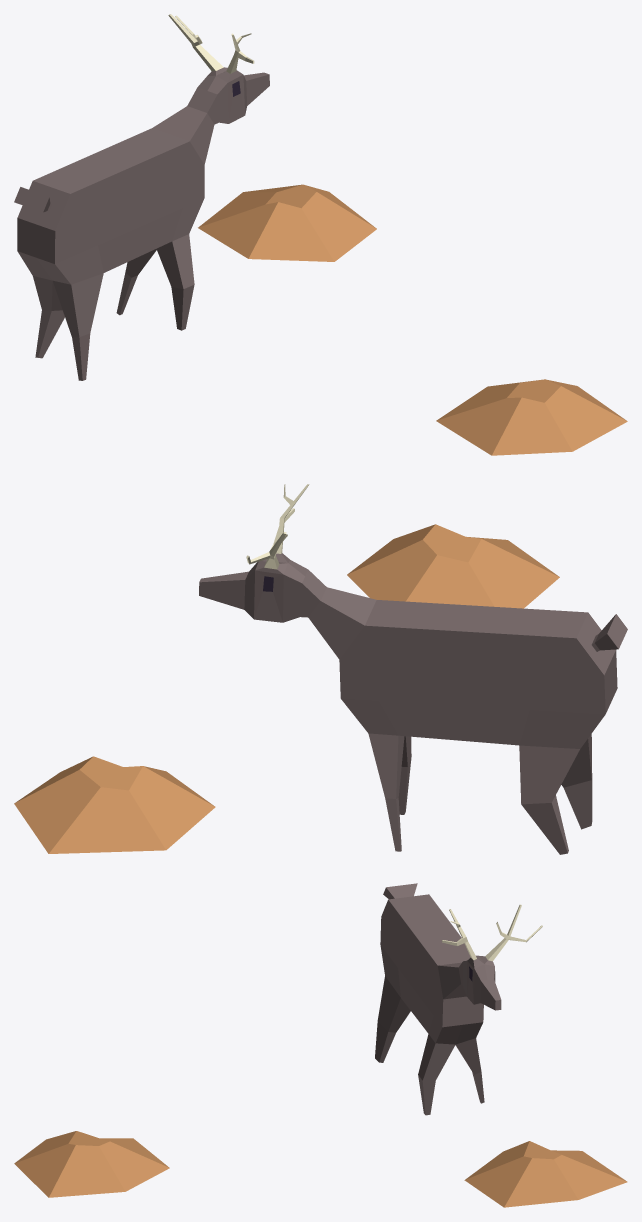
Rendered from Deer-2.fbx.
The picture shows the model from 3 angles, top to bottom: view 1: azimuth 30°, elevation 25°; view 2: azimuth 150°, elevation 25°; view 3: azimuth 270°, elevation 25°; orthographic projection. The views are drawn at different scales.
Visible parts, largest first — view 1: Deer-2; view 2: Deer-2; view 3: Deer-2.
Part boxes in pixels (x1,y1,x2,y2): Deer-2: [14, 14, 627, 455]; Deer-2: [14, 484, 627, 854]; Deer-2: [14, 883, 627, 1207].
Bounding box in the file's own units: 41.3 × 25.79 × 61.48.
